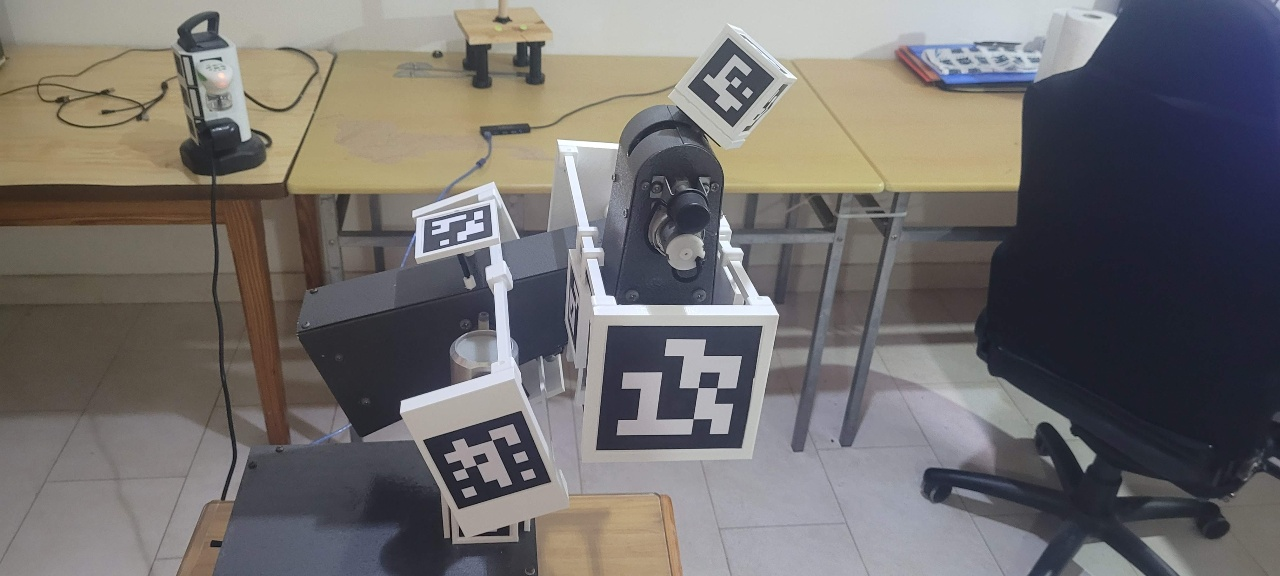Robot: (350, 15, 748, 576)
